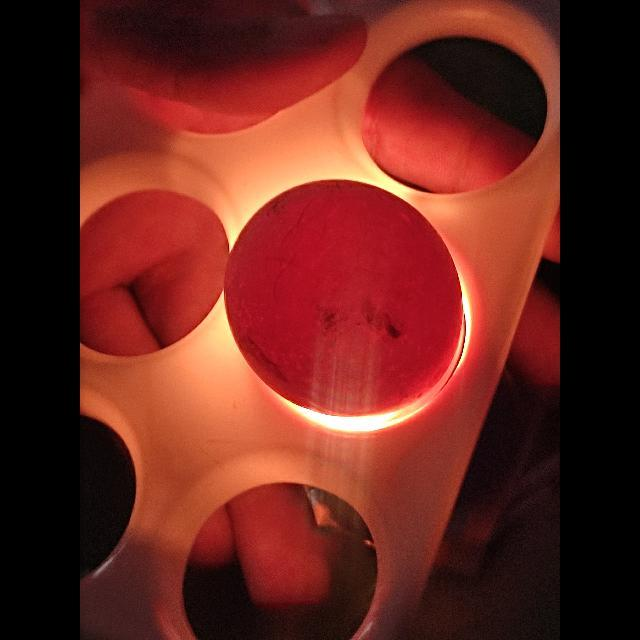Infertile: (220, 176, 468, 414)
